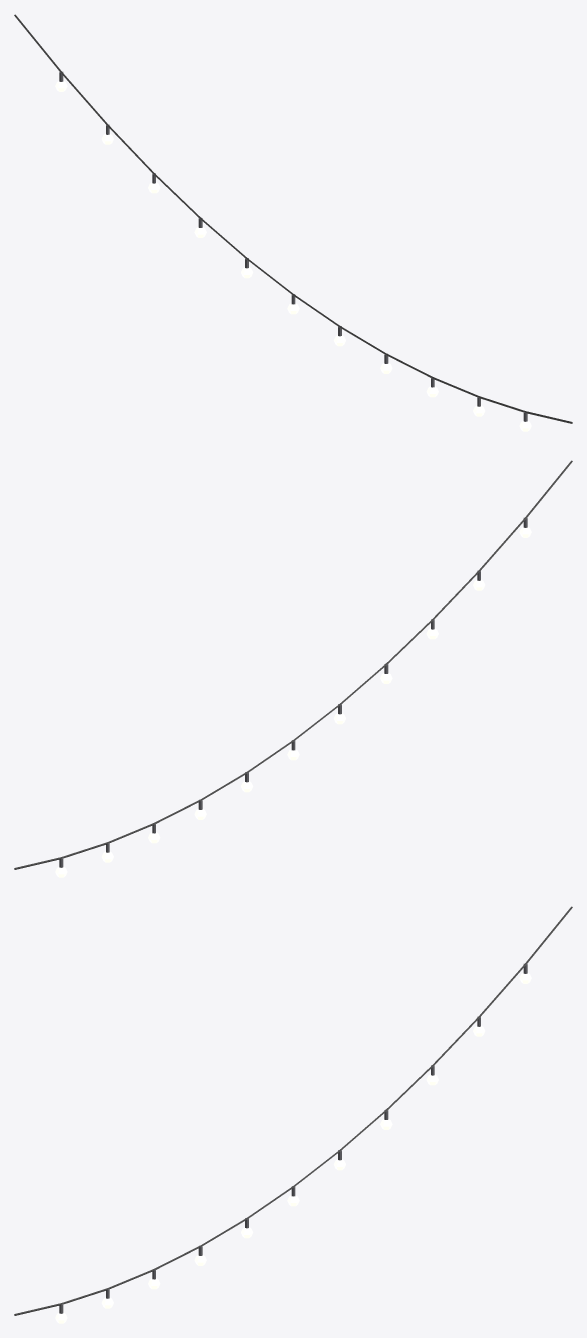
File: lobby_string_lights.glb
3 views of the same model, one above another, from view 1: azimuth 30°, elevation 25°; view 2: azimuth 150°, elevation 25°; view 3: azimuth 330°, elevation 25° (orthographic).
Parts seen in each view (by area): view 1: LobbyStringLights; view 2: LobbyStringLights; view 3: LobbyStringLights.
Boxes of the visible parts, x1,y1,x2,y2 form: LobbyStringLights: [14, 14, 572, 431]; LobbyStringLights: [14, 460, 572, 877]; LobbyStringLights: [14, 906, 572, 1323].
Bounding box in the file's own units: 0.0779 × 0.7627 × 8.
